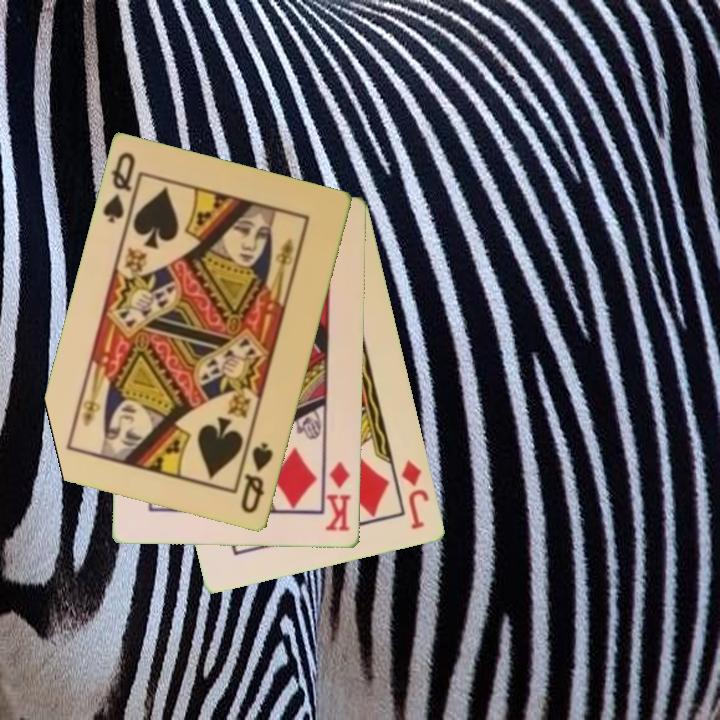Jd: (398, 456, 433, 533)
Kd: (322, 454, 354, 534)
Qs: (238, 439, 277, 517), (99, 149, 138, 227)
